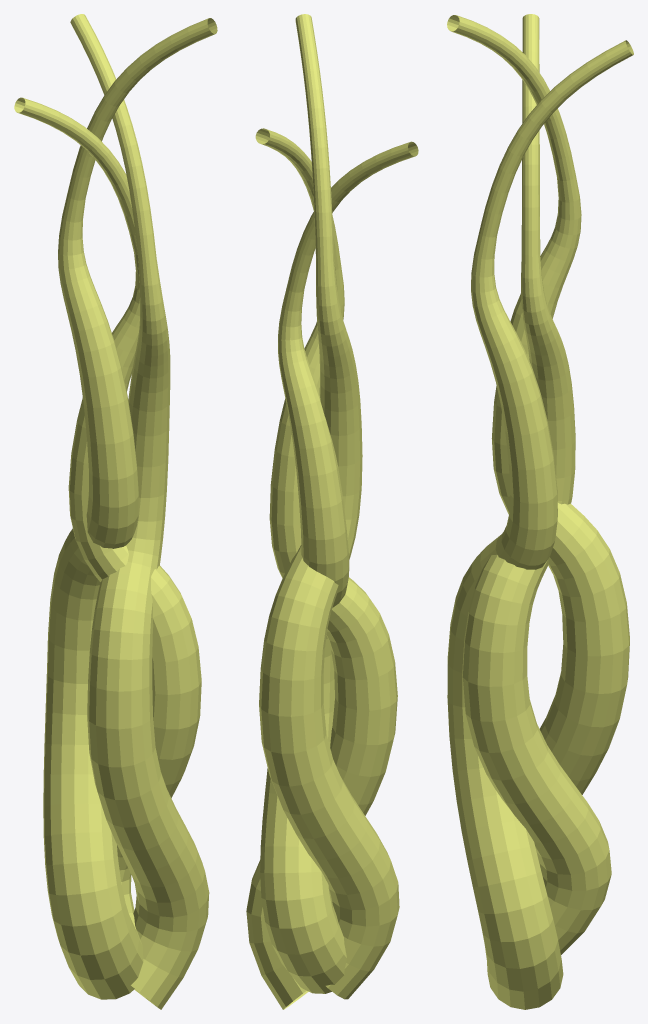
The model's file is flowerSting.fbx.
The picture shows the model from 3 angles, left to right: view 1: azimuth 30°, elevation 25°; view 2: azimuth 150°, elevation 25°; view 3: azimuth 270°, elevation 25°; orthographic projection. The views are drawn at different scales.
Visible parts, largest first — view 1: BezierCurve.010; view 2: BezierCurve.010; view 3: BezierCurve.010.
Boxes of the visible parts, x1,y1,x2,y2 form: BezierCurve.010: (14, 14, 217, 1009); BezierCurve.010: (246, 14, 418, 1009); BezierCurve.010: (447, 14, 633, 1009).
Size of the model in its own units: 0.4505 by 2.41 by 0.406.
